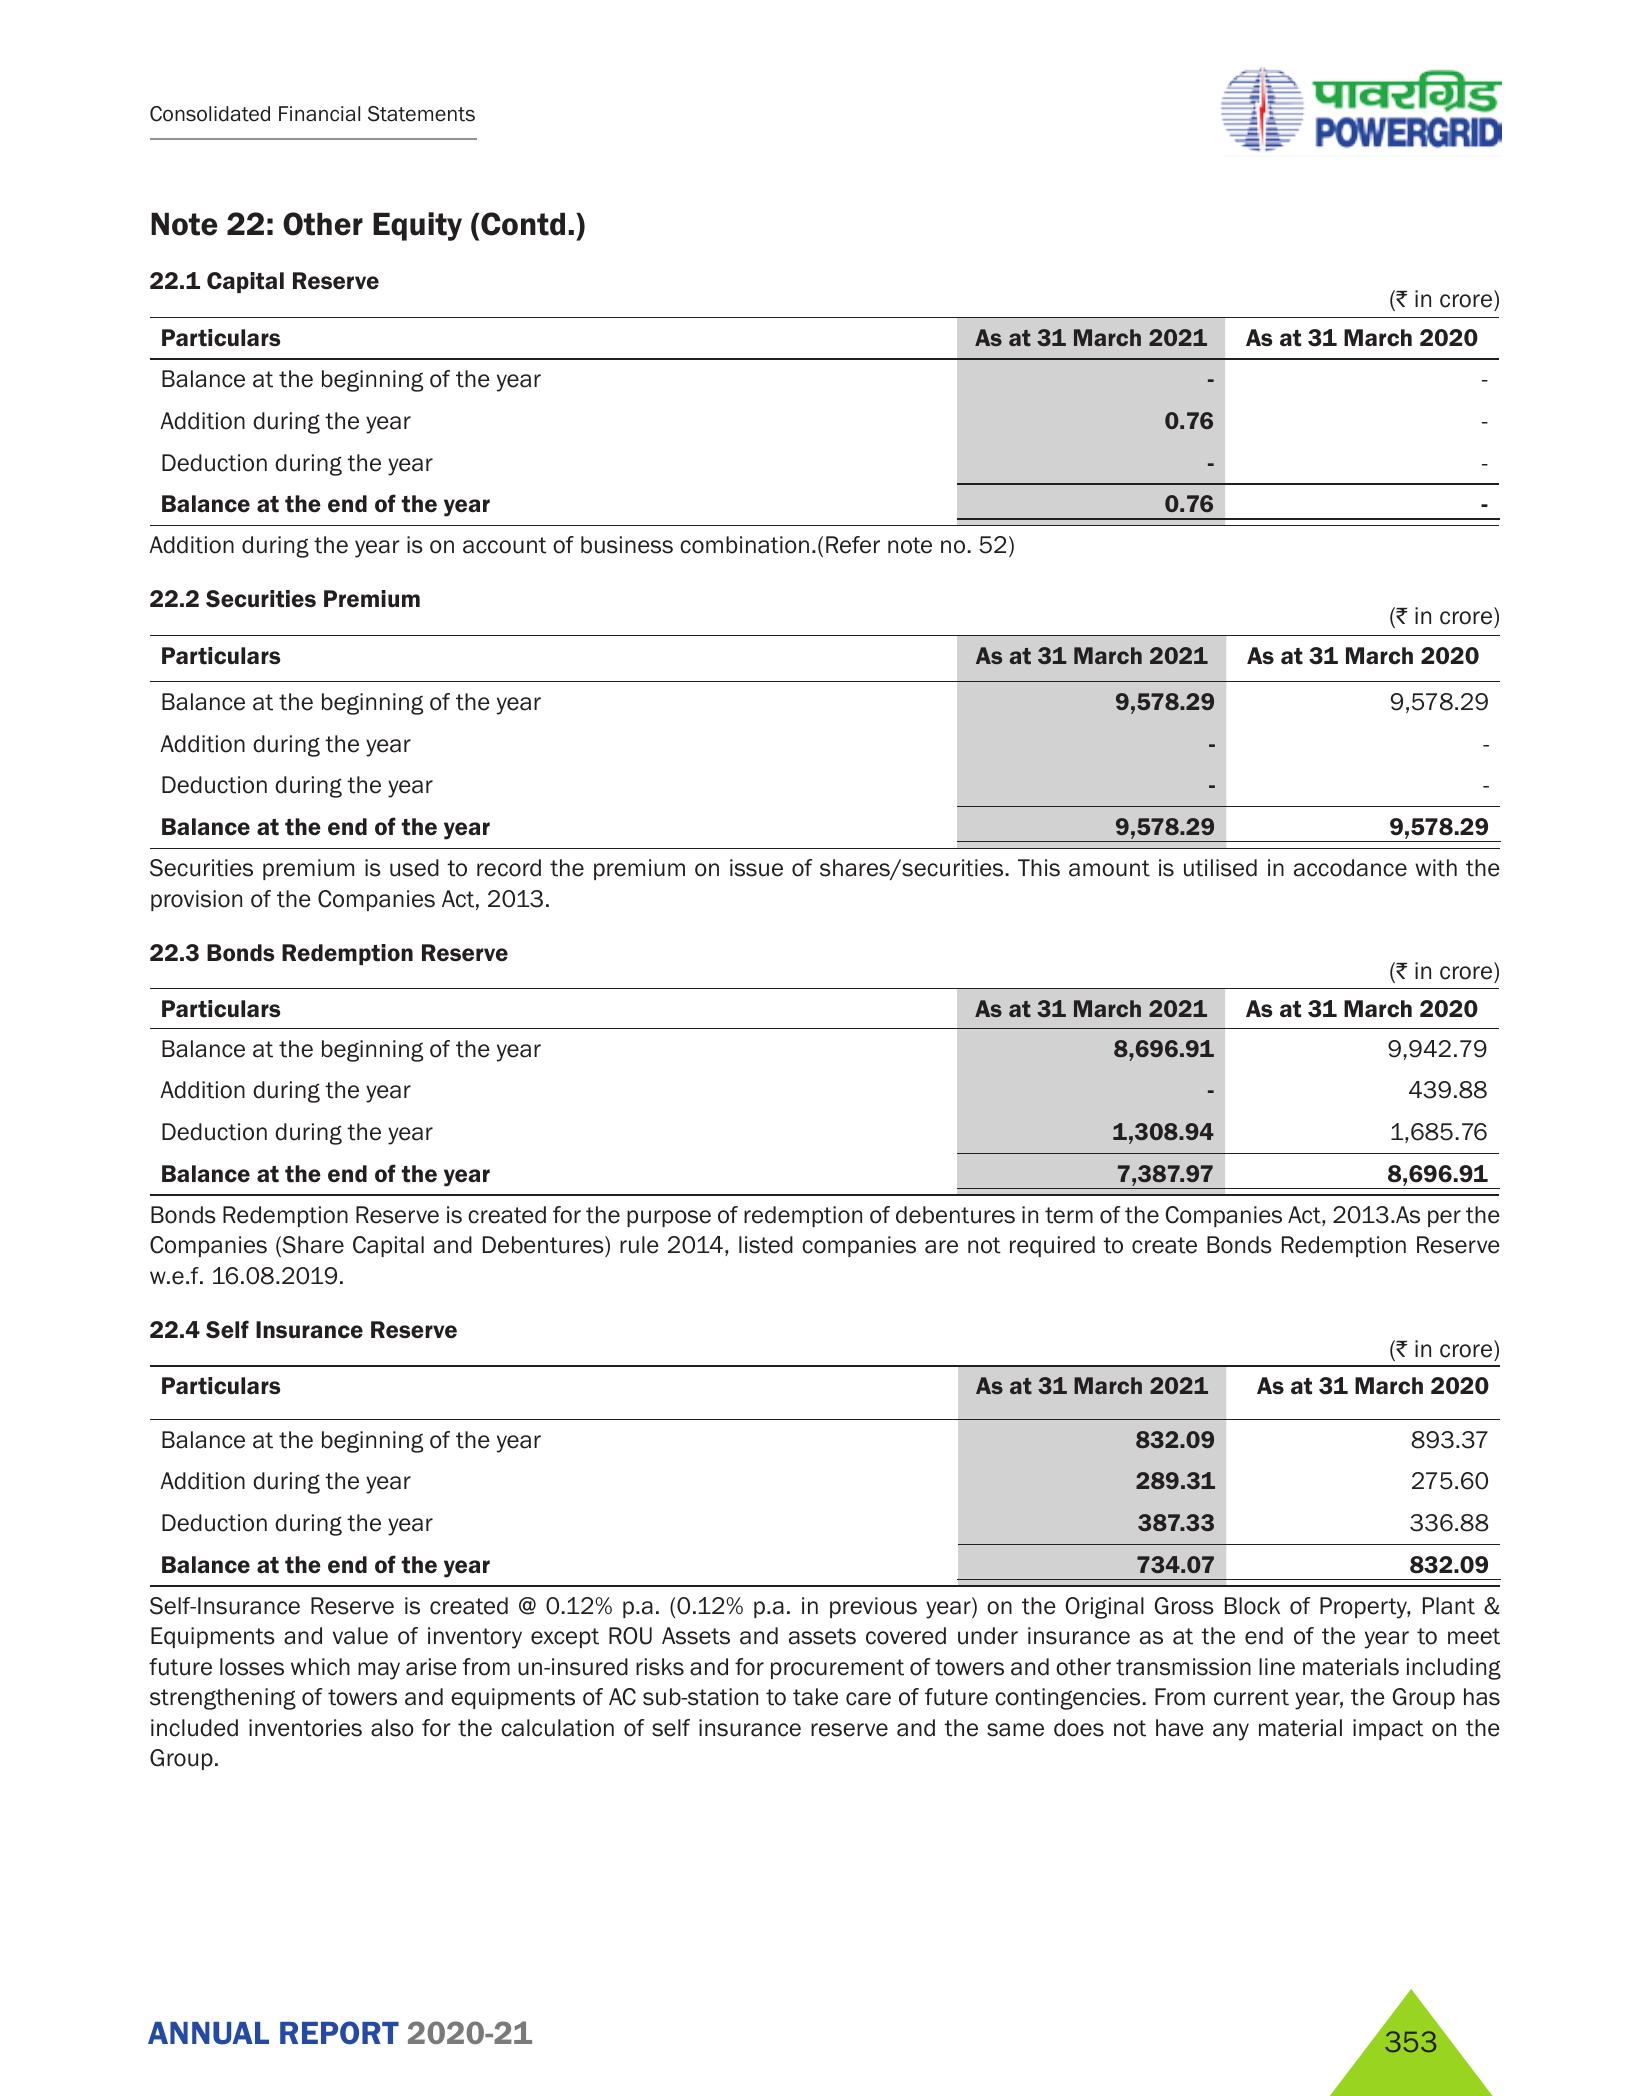Footer: (0, 1968, 1650, 2096)
Header: (0, 0, 1650, 184)
Table: (126, 1356, 1516, 1589), (111, 985, 1507, 1205), (114, 633, 1511, 842), (111, 315, 1499, 522)
